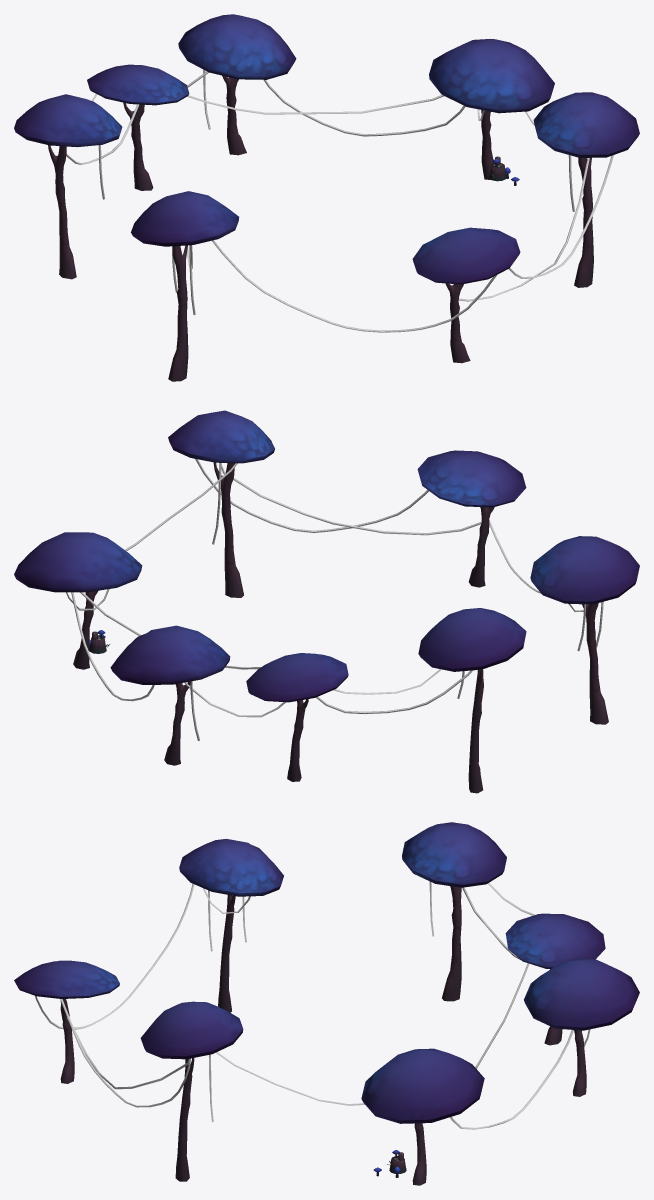
The model's file is 초원_Meadow_.fbx.
3 views of the same model, one above another, from view 1: azimuth 30°, elevation 25°; view 2: azimuth 150°, elevation 25°; view 3: azimuth 270°, elevation 25° (orthographic). The views are drawn at different scales.
Parts seen in each view (by area): view 1: Meadow_tree_01, Meadow_tree_02, Meadow_tree_07, Meadow_tree_04, Meadow_tree_05, Meadow_tree_03, Meadow_obj, Meadow_tree_06; view 2: Meadow_tree_04, Meadow_tree_01, Meadow_tree_05, Meadow_tree_07, Meadow_tree_02, Meadow_tree_03, Meadow_obj, Meadow_tree_06; view 3: Meadow_tree_01, Meadow_tree_07, Meadow_tree_05, Meadow_tree_04, Meadow_tree_02, Meadow_tree_06, Meadow_obj, Meadow_tree_03.
Boxes of the visible parts, x1=… form: Meadow_tree_01: x1=429, y1=39, x2=554, y2=179; Meadow_tree_02: x1=533, y1=92, x2=639, y2=287; Meadow_tree_07: x1=178, y1=14, x2=296, y2=155; Meadow_tree_04: x1=131, y1=191, x2=239, y2=381; Meadow_tree_05: x1=14, y1=94, x2=122, y2=279; Meadow_tree_03: x1=412, y1=227, x2=520, y2=363; Meadow_obj: x1=59, y1=69, x2=613, y2=332; Meadow_tree_06: x1=87, y1=64, x2=189, y2=190; Meadow_tree_04: x1=530, y1=536, x2=639, y2=724; Meadow_tree_01: x1=14, y1=532, x2=142, y2=669; Meadow_tree_05: x1=418, y1=608, x2=526, y2=793; Meadow_tree_07: x1=110, y1=625, x2=230, y2=765; Meadow_tree_02: x1=168, y1=410, x2=274, y2=597; Meadow_tree_03: x1=417, y1=450, x2=526, y2=587; Meadow_obj: x1=66, y1=459, x2=603, y2=740; Meadow_tree_06: x1=246, y1=653, x2=348, y2=781; Meadow_tree_01: x1=361, y1=1048, x2=484, y2=1185; Meadow_tree_07: x1=524, y1=958, x2=639, y2=1096; Meadow_tree_05: x1=402, y1=822, x2=506, y2=1001; Meadow_tree_04: x1=179, y1=838, x2=283, y2=1012; Meadow_tree_02: x1=140, y1=1001, x2=243, y2=1181; Meadow_tree_06: x1=505, y1=913, x2=605, y2=1045; Meadow_obj: x1=35, y1=881, x2=590, y2=1129; Meadow_tree_03: x1=14, y1=960, x2=119, y2=1083.
Size of the model in its own units: 109 by 40.12 by 119.
